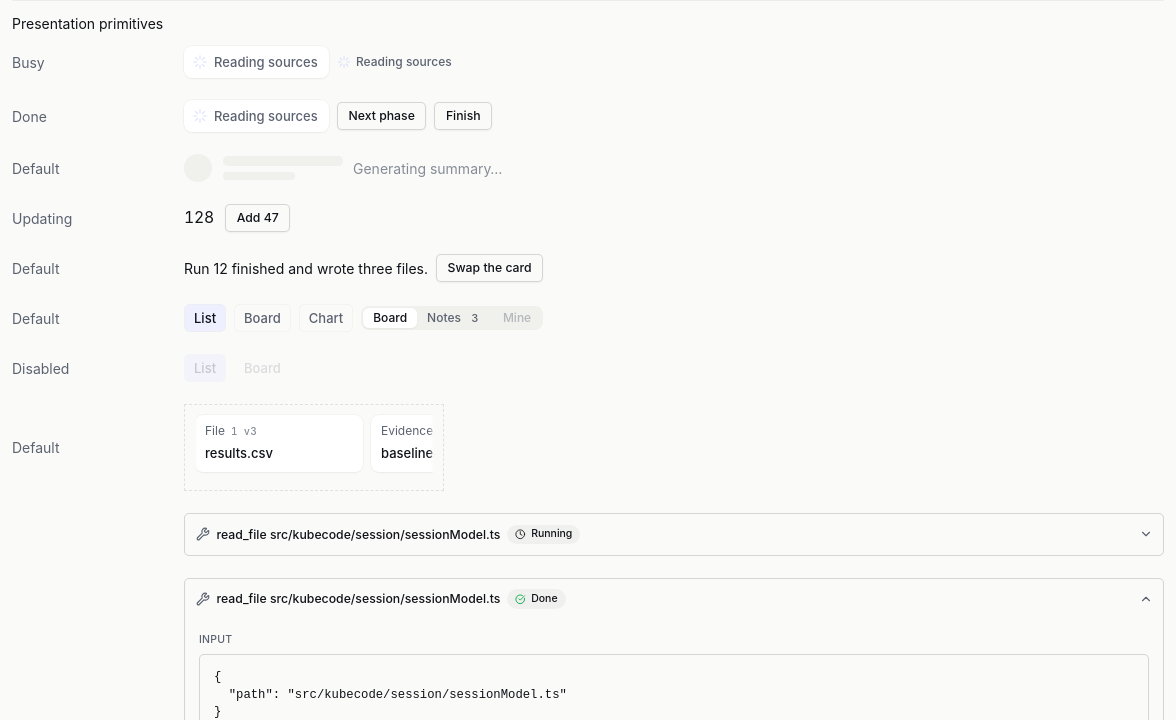
it: AgentUiMatrix › advances the loader and the counter only through the visible controls
Click the button "Next phase" at (382, 116), box [337,102,426,130]
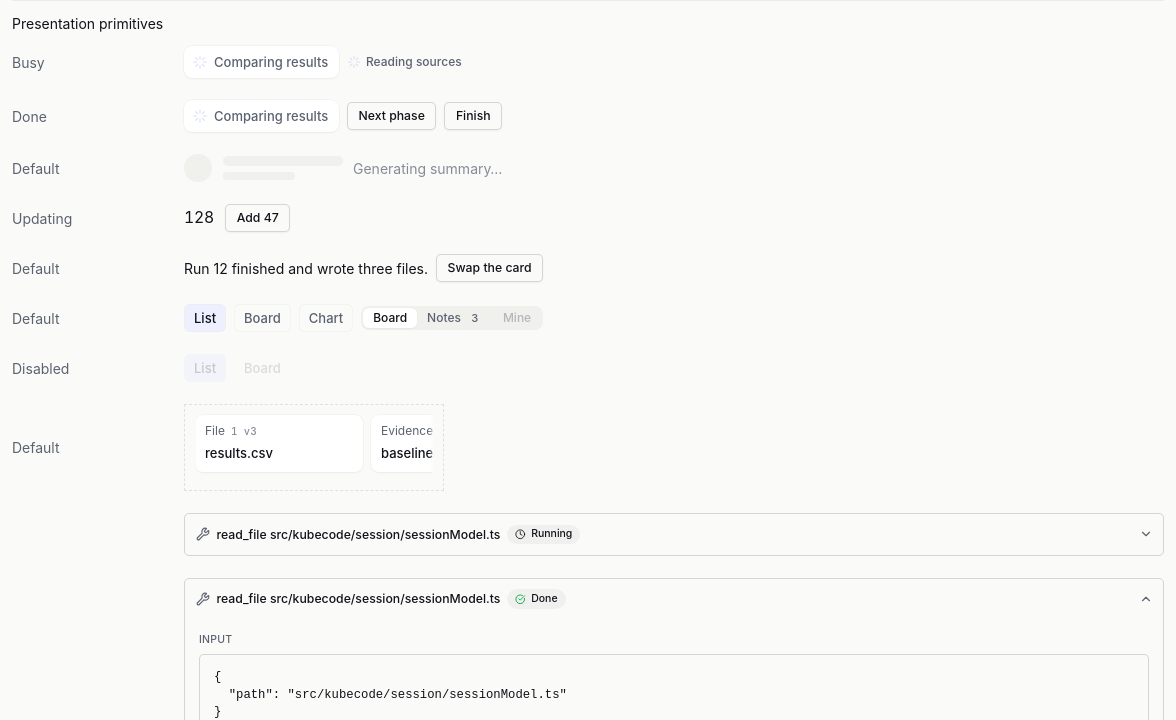
Result: the message "Comparing results" next to "Reading sources" is shown at [214,54,328,70]
Click the button "Finish" at (473, 116), box [444,102,502,130]
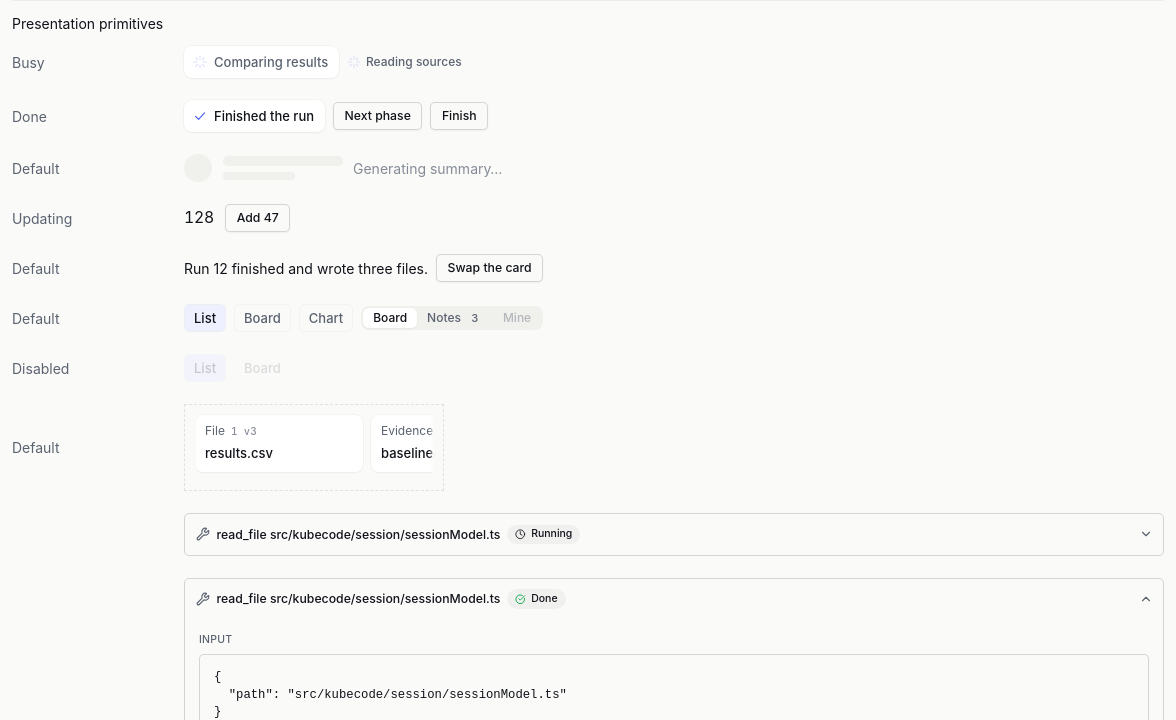
Click the button "Add 47" at (258, 218), box [225,204,290,232]
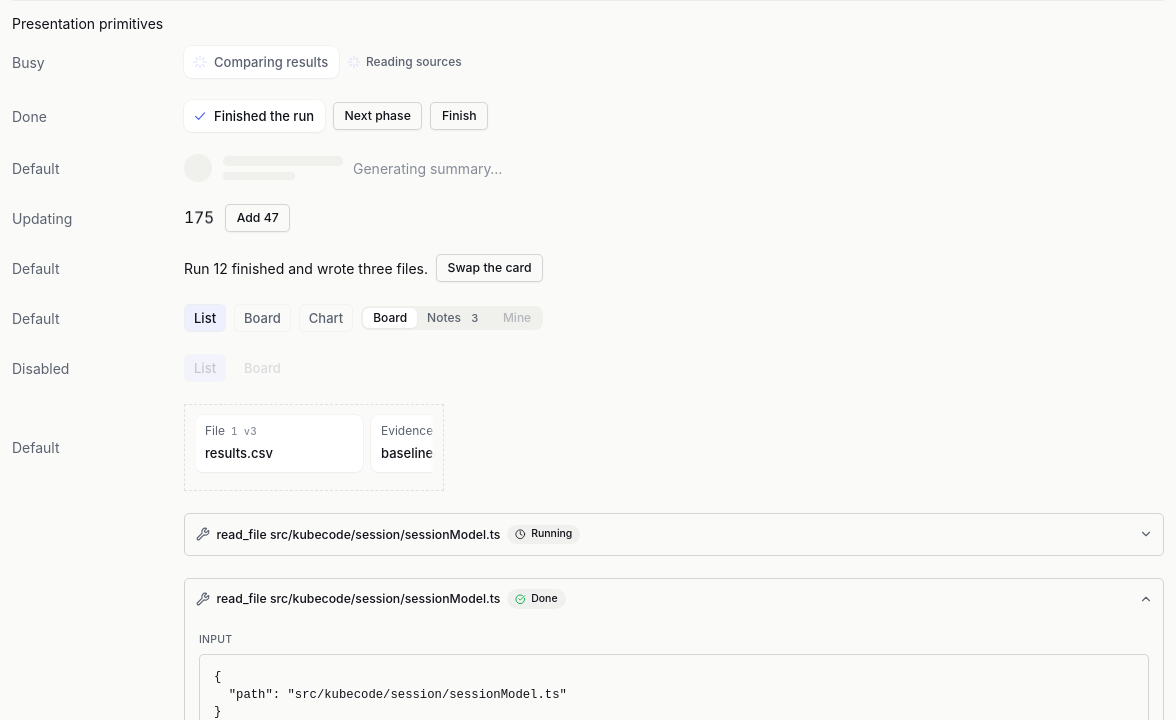
Click the button "Swap the card" at (490, 268), box [436,254,543,282]
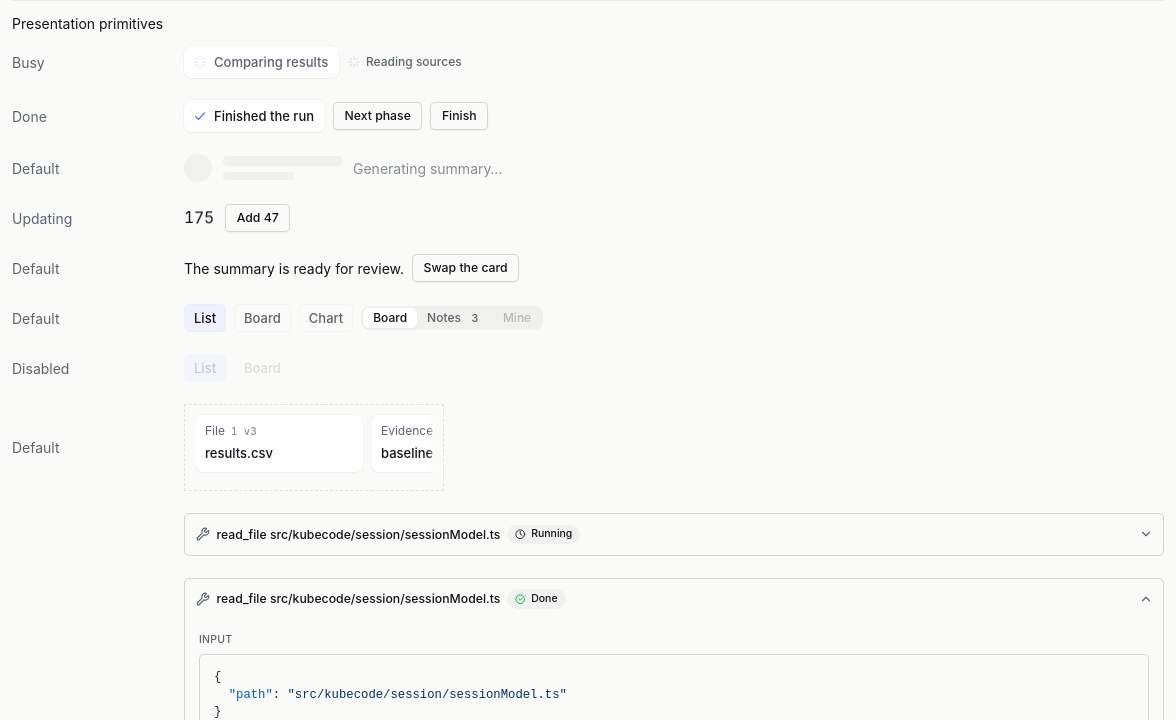
Result: the text "The summary is ready for review." is shown at [184,258,404,278]
